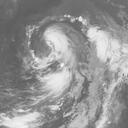cyclone: (27, 15, 92, 74)
